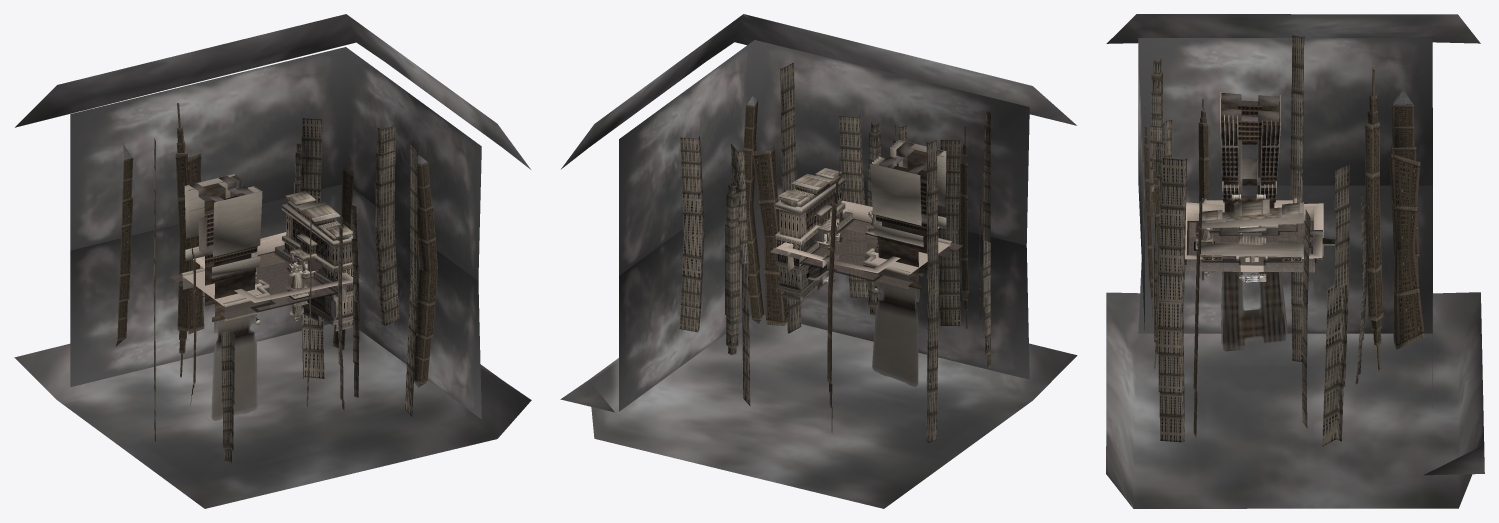
Rendered from lawbot_courtyard.glb.
3 views of the same model, side by side, from view 1: azimuth 30°, elevation 25°; view 2: azimuth 150°, elevation 25°; view 3: azimuth 270°, elevation 25° (orthographic). The views are drawn at different scales.
Visible parts, largest first — view 1: LB_SkySides, LB_SkyTop_Refl, LB_SkySidesRefl, LB_SkyTop, LB_CourtHouse, LB_DA_Refl_SD_1, LB_DA_MainWalls, pCube49, LB_PlazaGround, LB_BLD19_Refl, LB_BLD1, LB_BLD1_Refl (+19 smaller); view 2: LB_SkyTop_Refl, LB_SkySides, LB_SkySidesRefl, LB_SkyTop, LB_CourtHouse, LB_DA_Refl_SD_2, LB_DA_MainWalls, pCube71, LB_PlazaGround, LB_BLD1, LB_BLD1_Refl, LB_BLD8 (+26 smaller); view 3: LB_SkyTop_Refl, LB_SkySides, LB_SkySidesRefl, LB_SkyTop, LB_DA_MainWalls, LB_CourtHouse, LB_DA_Refl_Front, LB_BLD22, LB_BLD13_Refl1, LB_BLD12_Refl, LB_BLD15_Refl, LB_BLD15 (+18 smaller).
Part boxes in pixels (<box>): LB_SkySides: <box>70,47,481,280</box>; LB_SkyTop_Refl: <box>14,323,531,508</box>; LB_SkySidesRefl: <box>70,184,481,419</box>; LB_SkyTop: <box>15,14,530,169</box>; LB_CourtHouse: <box>275,191,362,291</box>; LB_DA_Refl_SD_1: <box>211,314,257,420</box>; LB_DA_MainWalls: <box>188,176,257,298</box>; pCube49: <box>213,191,262,256</box>; LB_PlazaGround: <box>170,251,337,319</box>; LB_BLD19_Refl: <box>414,268,437,387</box>; LB_BLD1: <box>375,125,395,228</box>; LB_BLD1_Refl: <box>375,223,399,325</box>; LB_SkyTop_Refl: <box>560,315,1077,508</box>; LB_SkySides: <box>619,40,1029,275</box>; LB_SkySidesRefl: <box>619,179,1029,411</box>; LB_SkyTop: <box>561,14,1076,169</box>; LB_CourtHouse: <box>770,168,852,262</box>; LB_DA_Refl_SD_2: <box>872,282,919,386</box>; LB_DA_MainWalls: <box>875,141,944,266</box>; pCube71: <box>870,163,921,225</box>; LB_PlazaGround: <box>800,219,962,287</box>; LB_BLD1: <box>680,136,704,236</box>; LB_BLD1_Refl: <box>679,234,704,332</box>; LB_BLD8: <box>839,115,864,205</box>; LB_SkyTop_Refl: <box>1106,292,1484,508</box>; LB_SkySides: <box>1138,38,1432,330</box>; LB_SkySidesRefl: <box>1138,185,1432,408</box>; LB_SkyTop: <box>1106,14,1480,43</box>; LB_DA_MainWalls: <box>1221,93,1279,211</box>; LB_CourtHouse: <box>1186,199,1314,272</box>; LB_DA_Refl_Front: <box>1222,256,1286,351</box>; LB_BLD22: <box>1158,158,1187,302</box>; LB_BLD13_Refl1: <box>1157,301,1184,442</box>; LB_BLD12_Refl: <box>1322,283,1348,446</box>; LB_BLD15_Refl: <box>1393,244,1424,349</box>; LB_BLD15: <box>1388,146,1420,250</box>.
Size of the model in its own units: 2251 by 1968 by 1980.
34 materials, 32 textured.
